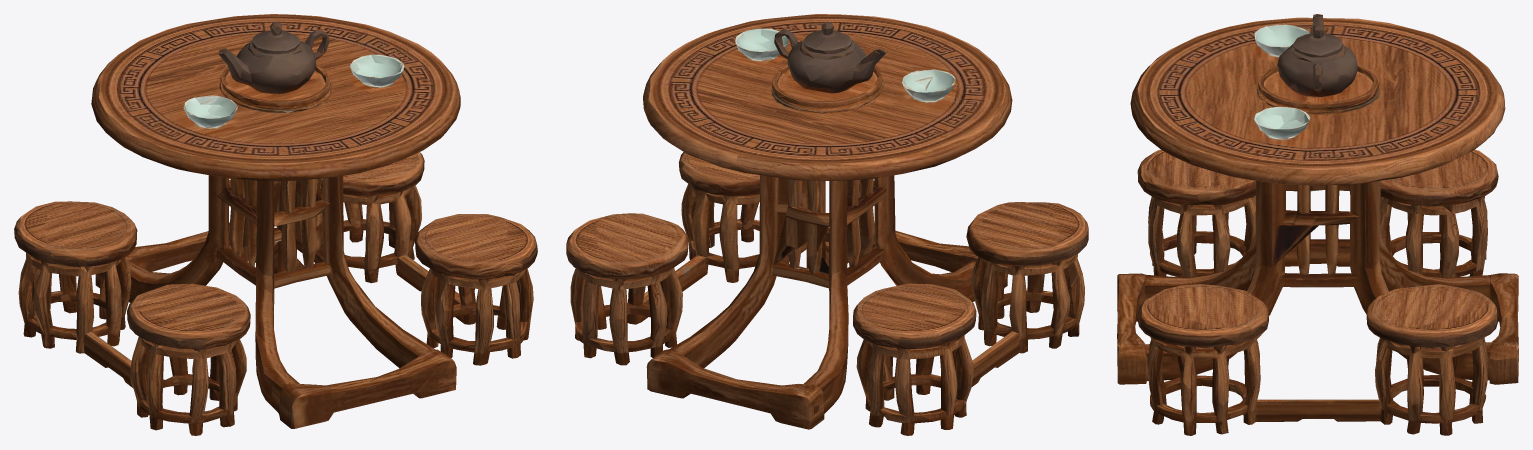
The model's file is gate-tea-table.glb.
3 views of the same model, side by side, from view 1: azimuth 30°, elevation 25°; view 2: azimuth 150°, elevation 25°; view 3: azimuth 270°, elevation 25° (orthographic).
Bounding box in the file's own units: 1.89 × 1.46 × 1.66.
Materials: 1 (1 with a texture image).
